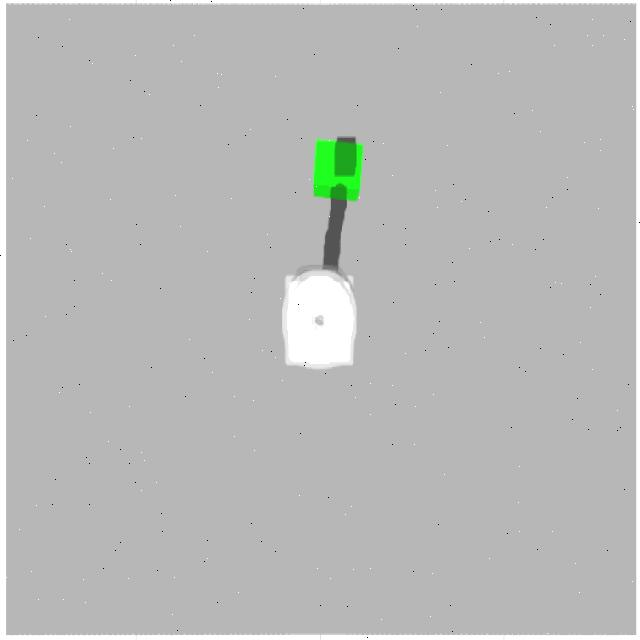box: (316, 140, 362, 201)
